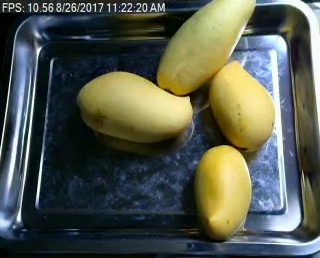Mango: (155, 0, 258, 94), (75, 70, 195, 142), (207, 60, 277, 152), (193, 146, 251, 239)
